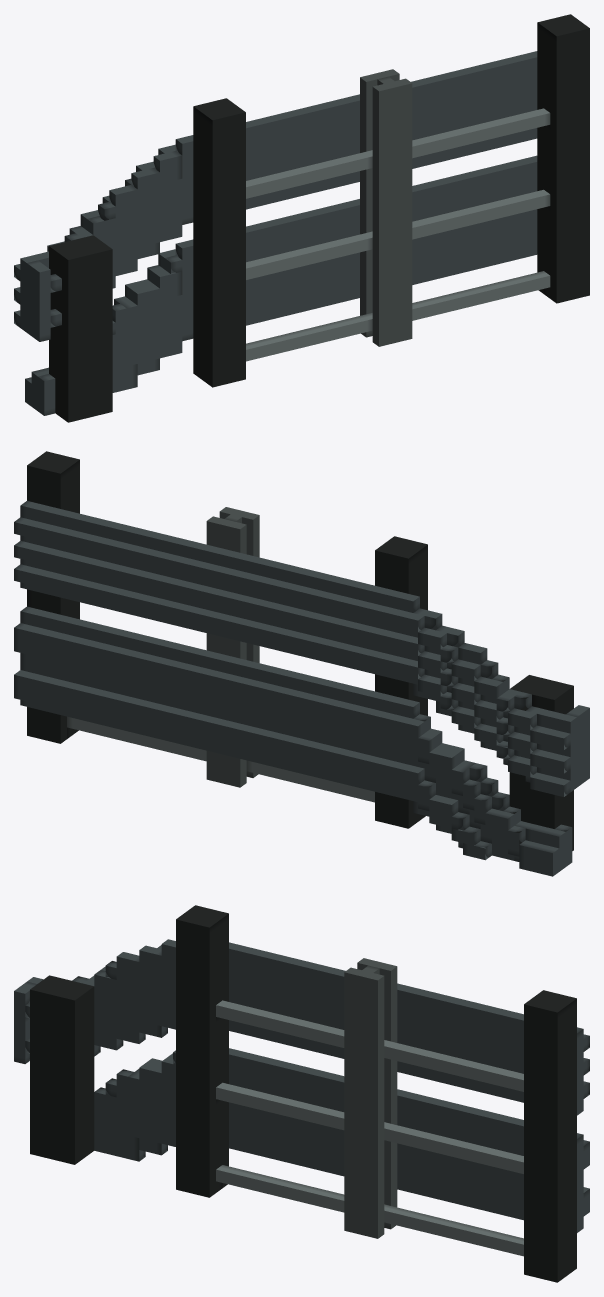
The model's file is blok_most_1x_koniec.dae.
3 renders of one model, top to bottom at view 1: azimuth 30°, elevation 25°; view 2: azimuth 150°, elevation 25°; view 3: azimuth 330°, elevation 25°, orthographic.
Visible parts, largest first — view 1: Content; view 2: Content; view 3: Content.
Boxes of the visible parts, x1,y1,x2,y2 form: Content: [14, 14, 589, 422]; Content: [14, 451, 589, 876]; Content: [14, 905, 589, 1282].
Bounding box in the file's own units: 49 × 23 × 5.
1 material, 1 textured.
